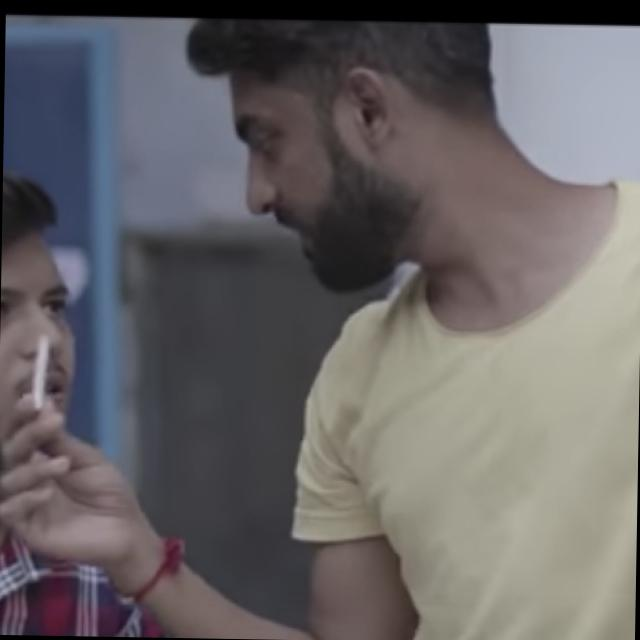cigarette: (26, 315, 58, 411)
